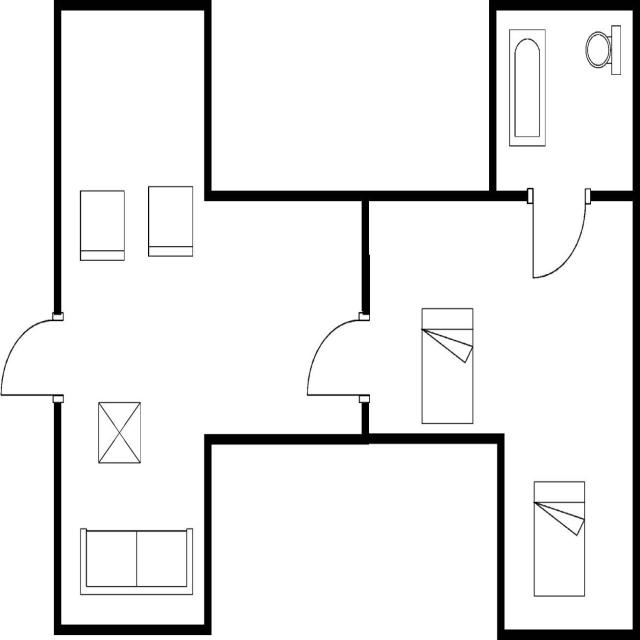bed: (417, 301, 476, 427), (530, 475, 587, 601)
coffee_table: (94, 396, 144, 467)
large_sink: (581, 19, 625, 82)
large_sofa: (76, 523, 196, 600)
small_sofa: (75, 185, 128, 266), (145, 181, 195, 261)
tub: (505, 24, 547, 149)
